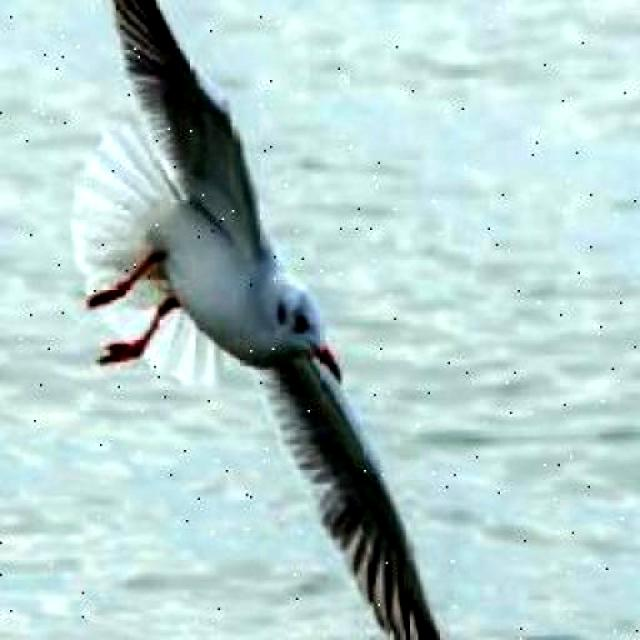airplane: (60, 0, 518, 640)
